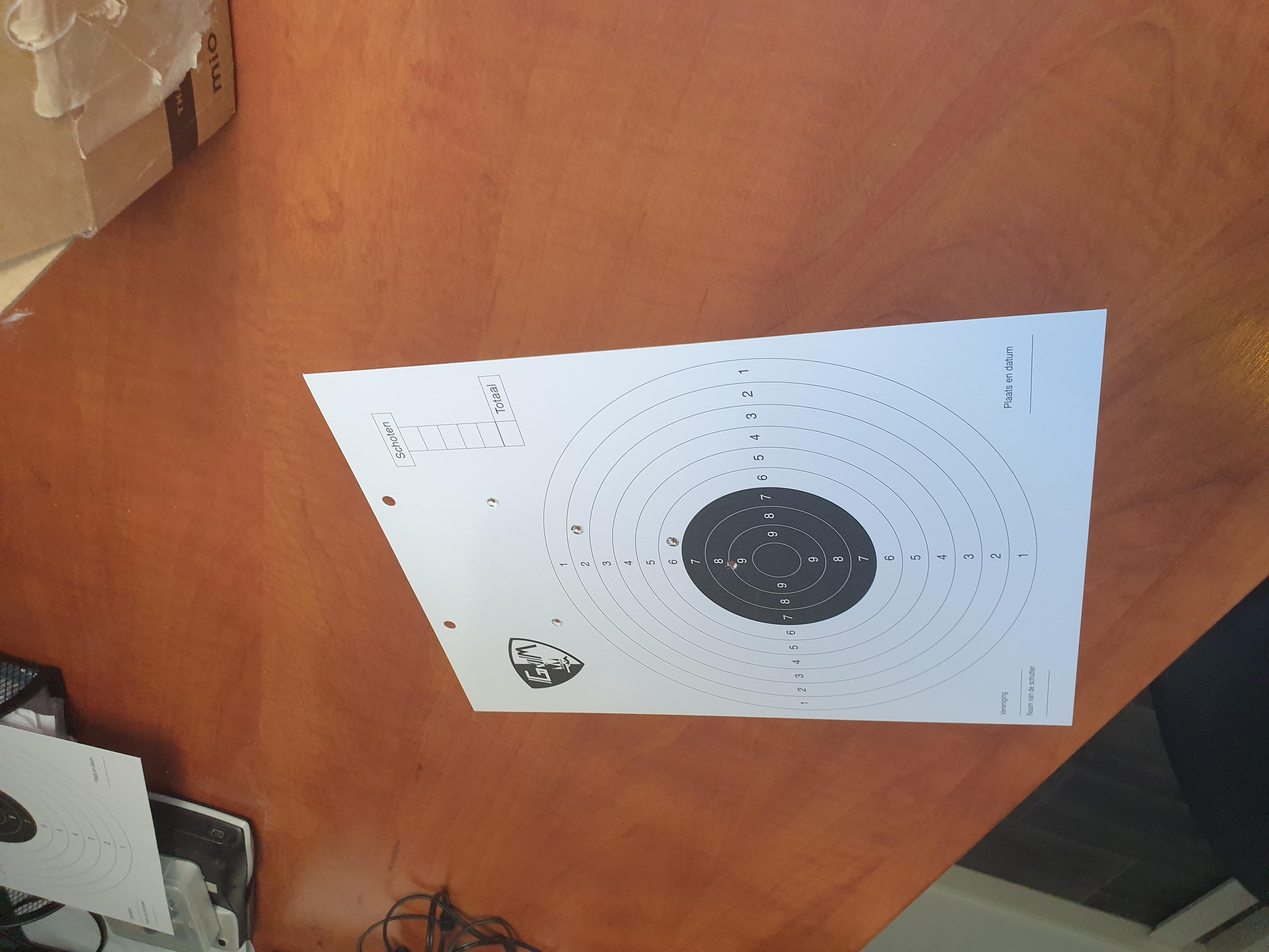hole: (768, 443, 783, 456), (684, 416, 699, 428), (529, 381, 545, 392), (589, 404, 603, 416), (705, 324, 719, 334)
